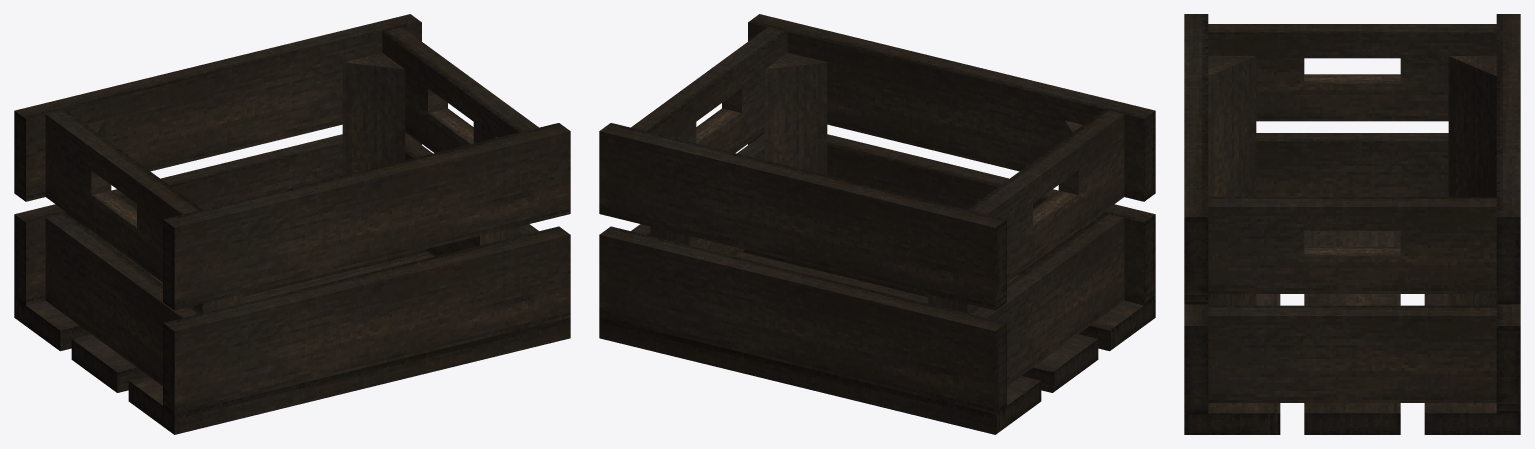
The model's file is wooden_crate_1.glb.
3 views of the same model, side by side, from view 1: azimuth 30°, elevation 25°; view 2: azimuth 150°, elevation 25°; view 3: azimuth 270°, elevation 25° (orthographic). The views are drawn at different scales.
Parts seen in each view (by area): view 1: wooden_crate_1; view 2: wooden_crate_1; view 3: wooden_crate_1.
Part boxes in pixels (x1,y1,x2,y2): wooden_crate_1: (14, 14, 570, 434); wooden_crate_1: (599, 14, 1155, 434); wooden_crate_1: (1184, 14, 1520, 434).
Size of the model in its own units: 0.72 by 0.36 by 0.504.
1 material, 1 textured.
